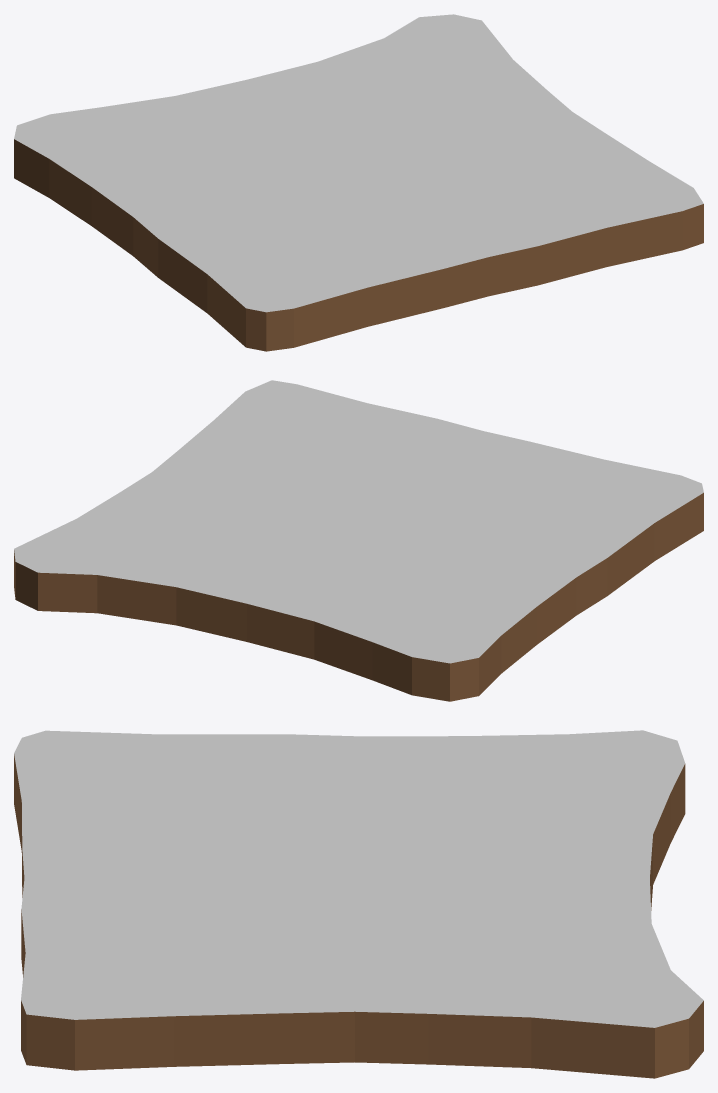
Rendered from toast.obj.
3 views of the same model, one above another, from view 1: azimuth 30°, elevation 25°; view 2: azimuth 150°, elevation 25°; view 3: azimuth 270°, elevation 25° (orthographic). The views are drawn at different scales.
Visible parts, largest first — view 1: Cylinder_4, Cylinder_4_1; view 2: Cylinder_4, Cylinder_4_1; view 3: Cylinder_4, Cylinder_4_1.
Part boxes in pixels (x1,y1,x2,y2): Cylinder_4: (14,14,703,312); Cylinder_4_1: (14,139,703,351); Cylinder_4: (14,380,703,663); Cylinder_4_1: (14,493,703,701); Cylinder_4: (14,730,703,1027); Cylinder_4_1: (14,754,703,1078).
Bounding box in the file's own units: 10.07 × 0.8 × 9.87.
